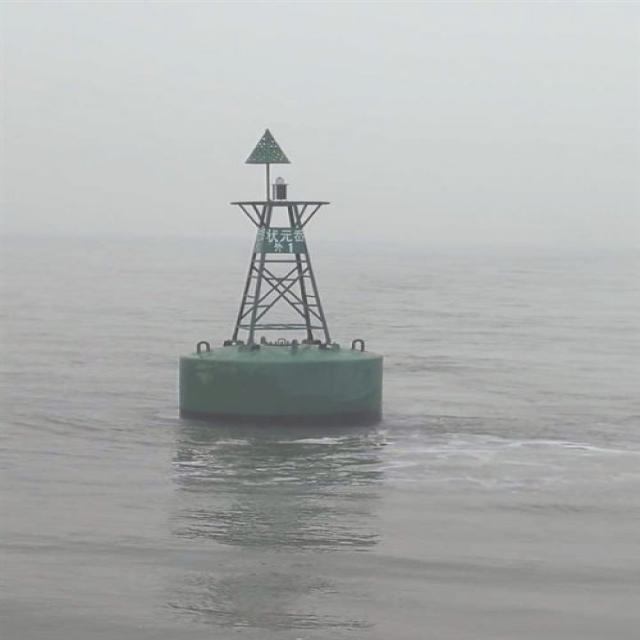buoy: (166, 128, 398, 414)
